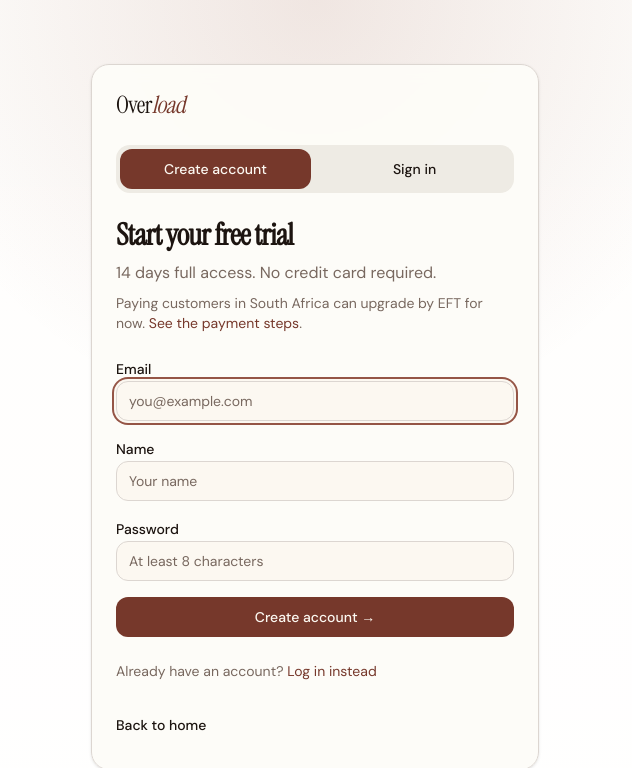
LoginPage › sign-in mode › shows error message when login API returns an error
Step 1. Click the button "Sign in" → (414, 169), box [319,149,510,189]
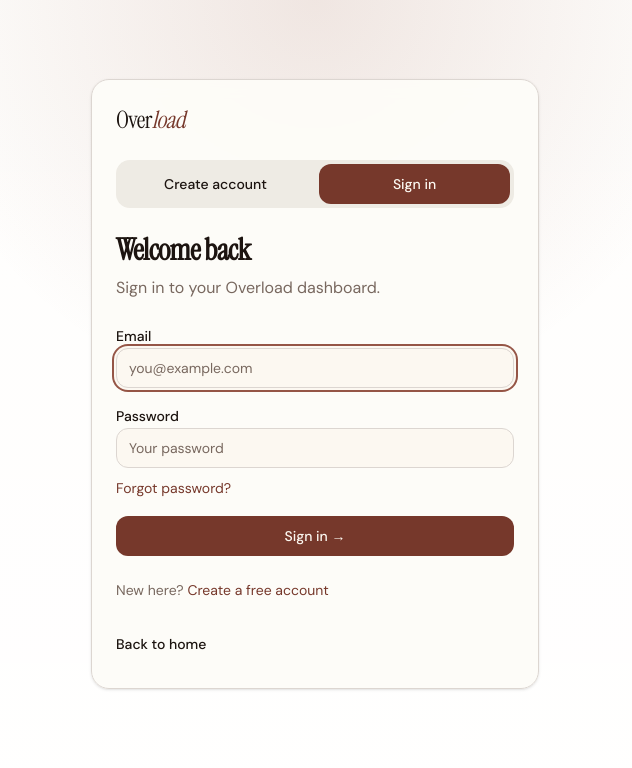
Step 2. Type "user@example.com" into the field labelled "Email" → (315, 368), box [116,348,514,388]
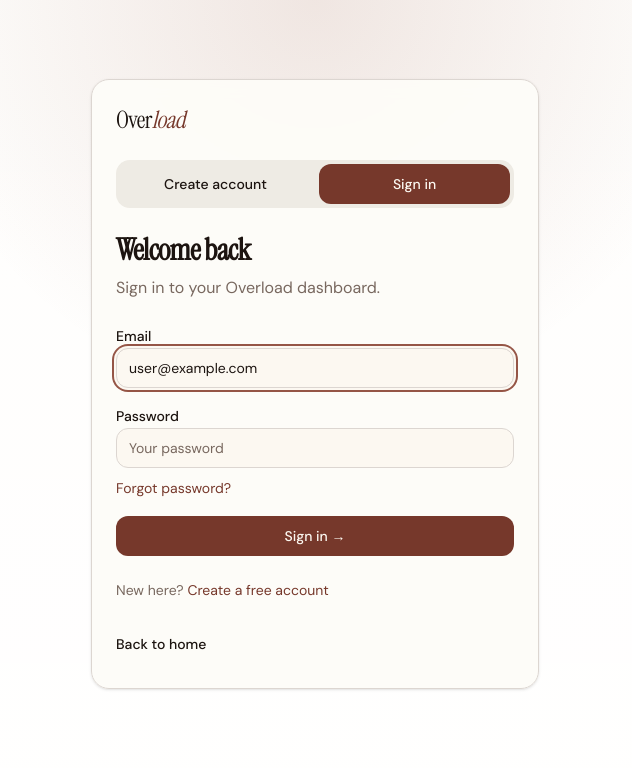
Step 3. Type "wrongpass" into the password field labelled "Password" → (315, 448), box [116,428,514,468]
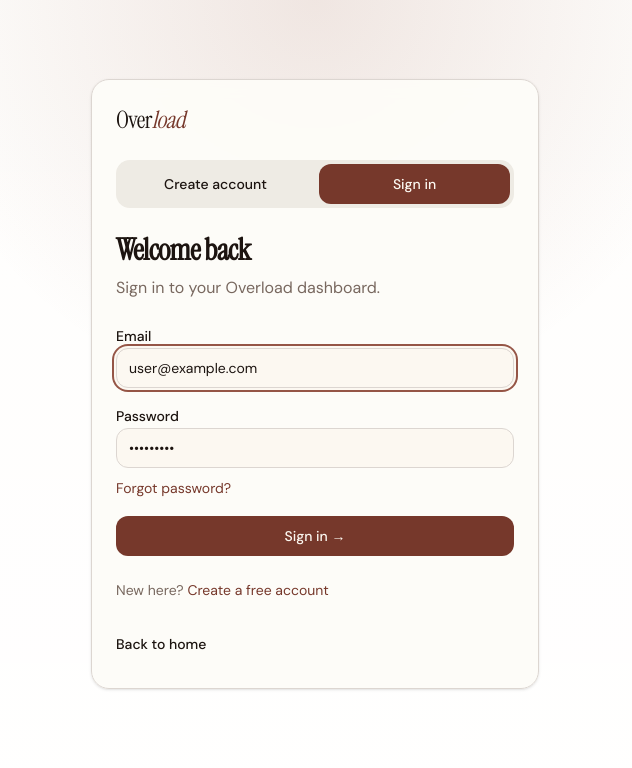
Step 4. Submit the text "Email Password Forgot password? Sign in →", box [116,324,514,556]
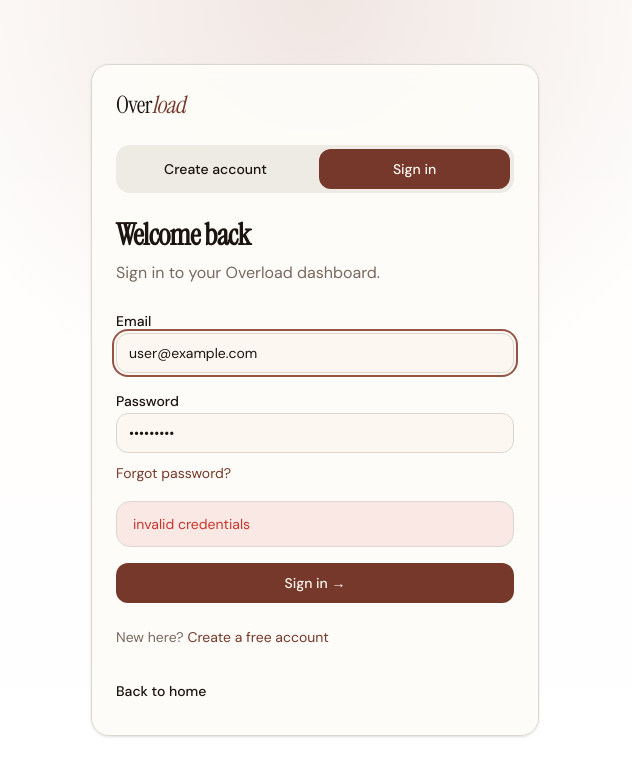
Result: the message "invalid credentials" is shown at [116,501,514,547]
